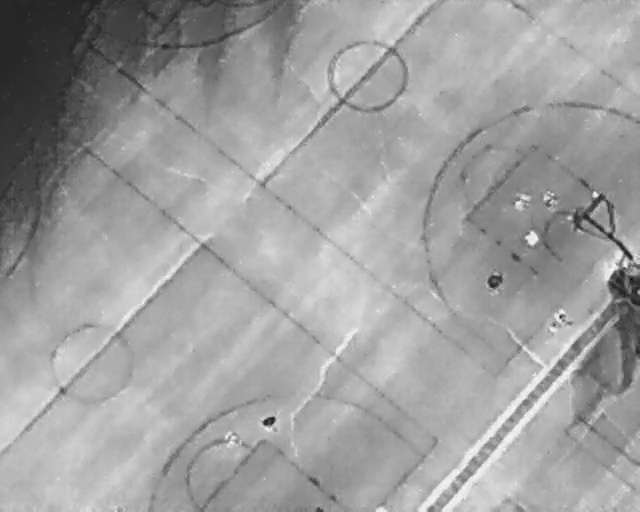Person: (552, 310, 569, 335), (522, 226, 538, 250), (225, 429, 241, 452), (487, 270, 502, 293), (260, 415, 276, 435), (514, 191, 530, 211)
